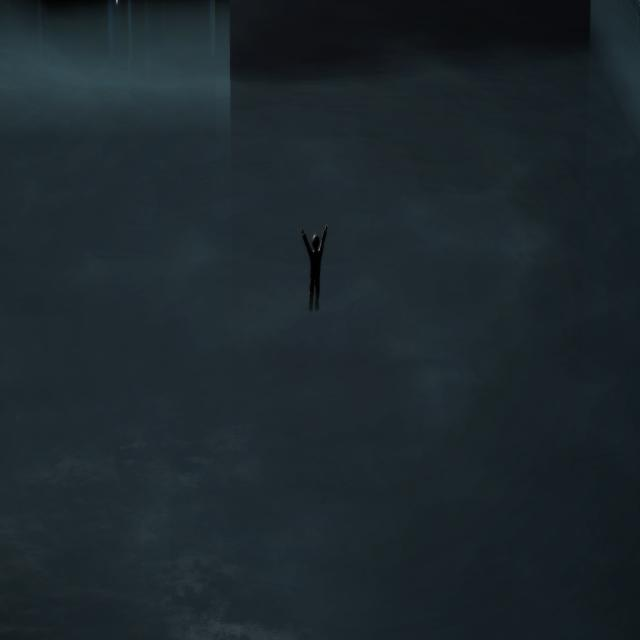Human: (299, 228, 330, 314)
